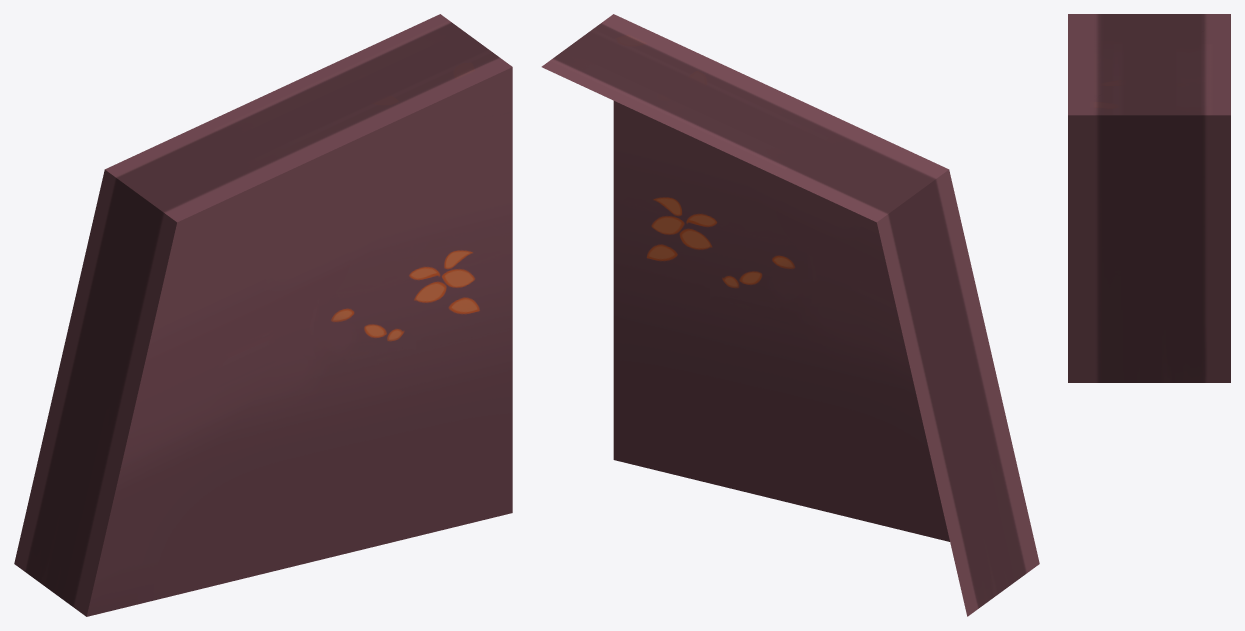
File: desertWallEndSmall_MESH.fbx
3 views of the same model, side by side, from view 1: azimuth 30°, elevation 25°; view 2: azimuth 150°, elevation 25°; view 3: azimuth 270°, elevation 25° (orthographic). The views are drawn at different scales.
Parts seen in each view (by area): view 1: Desert_WallEndSLeft; view 2: Desert_WallEndSLeft; view 3: Desert_WallEndSLeft.
Boxes of the visible parts, bbox=[...] form: Desert_WallEndSLeft: bbox=[14, 14, 512, 616]; Desert_WallEndSLeft: bbox=[541, 14, 1039, 616]; Desert_WallEndSLeft: bbox=[1068, 14, 1230, 382].
Bounding box in the file's own units: 100 × 100 × 29.44.
Materials: 1 (1 with a texture image).
